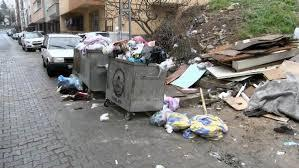Container: (105, 58, 167, 114), (76, 50, 110, 82), (86, 51, 105, 91)
Garbage: (165, 107, 229, 141), (109, 36, 170, 62), (57, 75, 88, 102), (81, 36, 111, 51)
